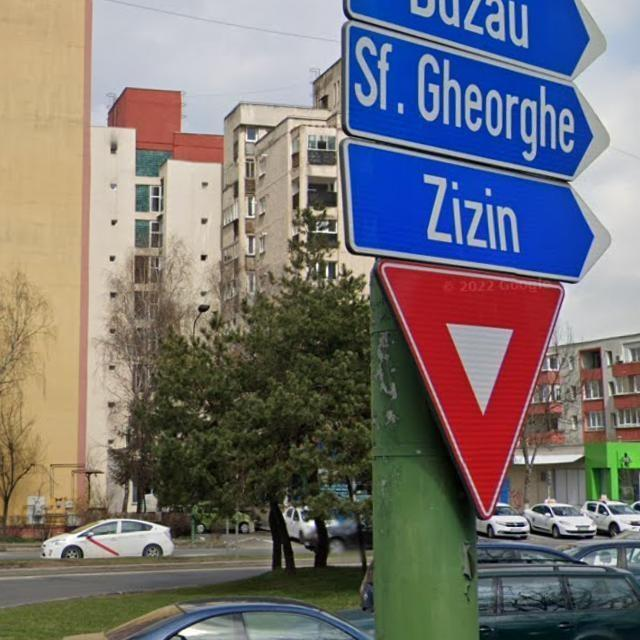prio_give_way: (374, 260, 566, 518)
